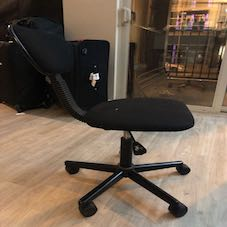chair: (12, 8, 183, 212), (44, 27, 183, 212)
